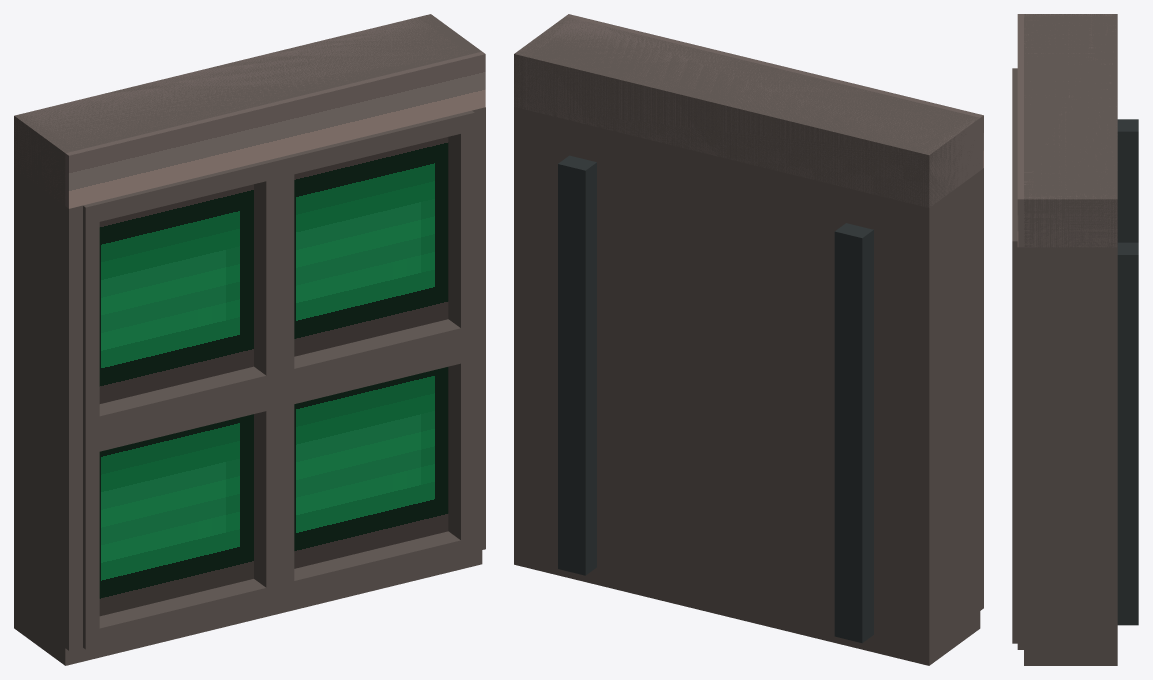
File: CMU3DMultiMonitorBigCloudEast.glb
The picture shows the model from 3 angles, left to right: view 1: azimuth 30°, elevation 25°; view 2: azimuth 150°, elevation 25°; view 3: azimuth 270°, elevation 25°; orthographic projection. The views are drawn at different scales.
Parts seen in each view (by area): view 1: display 1 recessed inset original face, display 2 recessed inset original face, display 4 recessed inset original face, display 3 recessed inset original face, full depth left chassis, upper horizontal casing original face, left outer steel stile, display 3 upper frame, cabinet roof, upper horizontal casing, display 3 lower frame, display 1 upper frame (+11 smaller); view 2: rear cabinet wall, left outer steel stile, upper horizontal casing, full depth left chassis, rear left mounting batten, cabinet roof, rear right mounting batten, central vertical display divider, full depth right chassis, display 3 upper frame, right outer steel stile; view 3: full depth right chassis, right outer steel stile, cabinet roof, rear right mounting batten, upper horizontal casing, rear cabinet wall, rear left mounting batten, display 1 upper frame, display 2 right frame, display 4 right frame, full depth left chassis, upper horizontal casing original face.
Boxes of the visible parts, x1,y1,x2,y2 form: display 1 recessed inset original face: (99,184,253,403); display 2 recessed inset original face: (294,137,448,356); display 4 recessed inset original face: (294,367,448,568); display 3 recessed inset original face: (99,414,253,616); full depth left chassis: (14,112,79,665); upper horizontal casing original face: (68,54,485,208); left outer steel stile: (14,169,82,650); display 3 upper frame: (83,319,474,454); cabinet roof: (37,24,467,149); upper horizontal casing: (14,14,484,208); display 3 lower frame: (83,531,474,649); display 1 upper frame: (83,110,474,224); rear cabinet wall: (528,51,923,662); left outer steel stile: (915,168,983,648); upper horizontal casing: (514,14,983,207); full depth left chassis: (915,114,980,665); rear left mounting batten: (834,223,873,643); cabinet roof: (537,20,965,145); rear right mounting batten: (558,155,596,575); central vertical display divider: (707,154,735,600); full depth right chassis: (514,16,577,567); display 3 upper frame: (528,321,914,450); right outer steel stile: (514,107,527,549); full depth right chassis: (1024,193,1117,665); right outer steel stile: (1017,247,1117,649); cabinet roof: (1024,20,1101,192); rear right mounting batten: (1117,242,1138,625); upper horizontal casing: (1018,14,1117,247); rear cabinet wall: (1101,20,1117,192); rear left mounting batten: (1117,119,1138,242); display 1 upper frame: (1012,68,1017,257); display 2 right frame: (1012,257,1017,434); display 4 right frame: (1012,466,1017,627); full depth left chassis: (1024,14,1117,20); upper horizontal casing original face: (1017,14,1018,246).
Bounding box in the file's own units: 0.9375 × 1.1 × 0.27.
8 materials, 4 textured.
